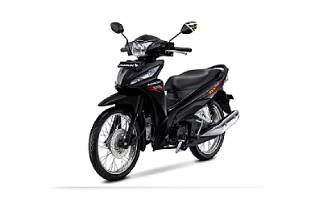motor: (83, 7, 244, 171)
